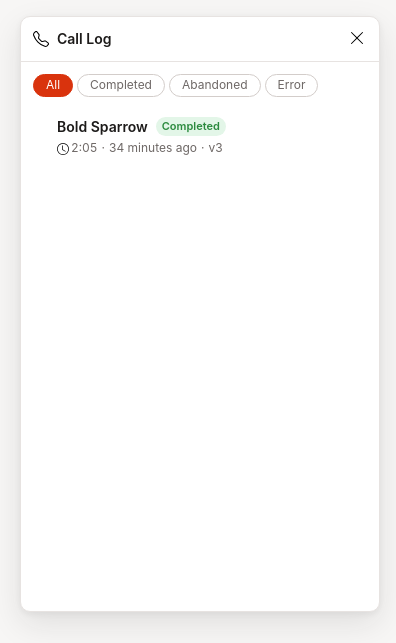
CallLogPane › says the analysis is on its way while it's pending
The image size is (396, 643).
Click the button "Bold Sparrow Completed 2:05 · 34 minutes ago · v3".
click(200, 137)  # box 33,109 -> 367,165
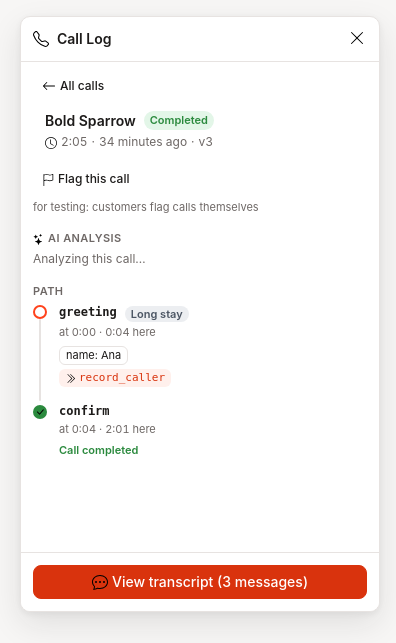
Result: the text "Analyzing this call…" is shown at 33,251 -> 146,266
